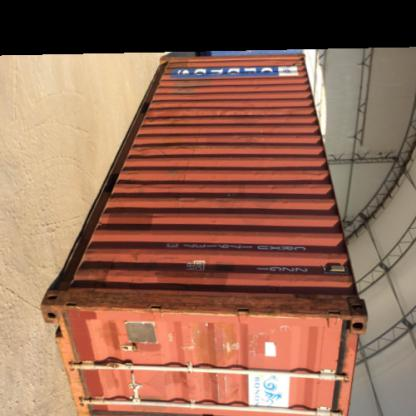Damage: (58, 284, 350, 322), (169, 186, 246, 208), (129, 140, 202, 160), (199, 104, 293, 119), (288, 158, 328, 178), (142, 108, 188, 124), (122, 241, 152, 265), (227, 130, 271, 144), (264, 182, 288, 191)
